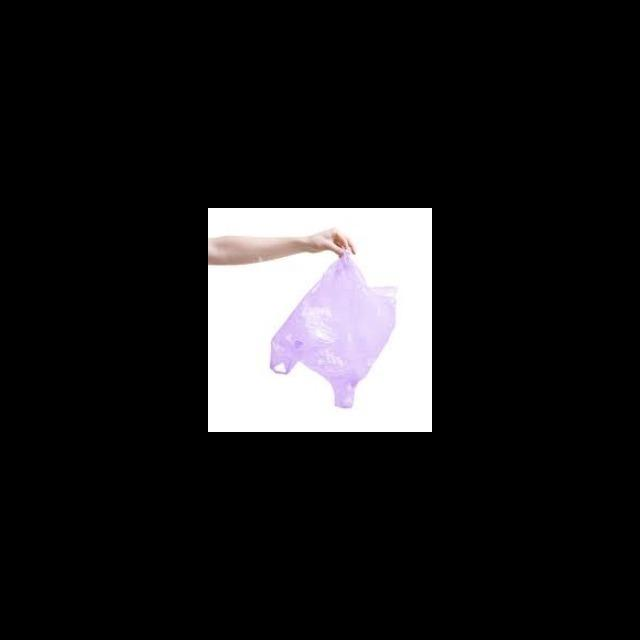plastic: (263, 233, 403, 411)
